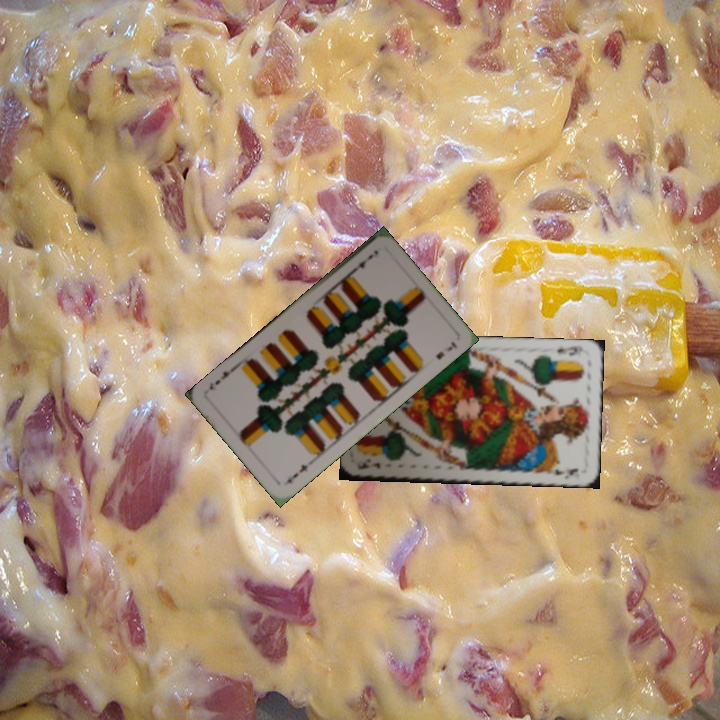E7: (283, 460, 311, 487), (347, 250, 376, 276)
EK: (553, 342, 586, 359), (355, 457, 382, 472)
